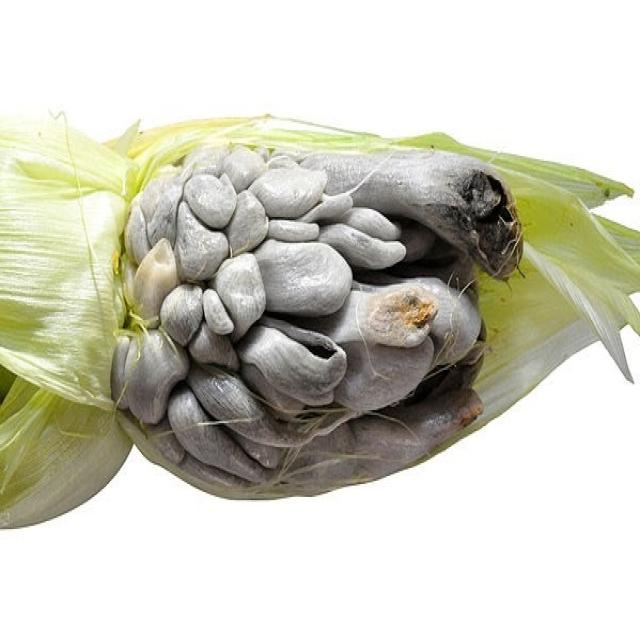Leaf_Scald: (92, 68, 579, 549)
